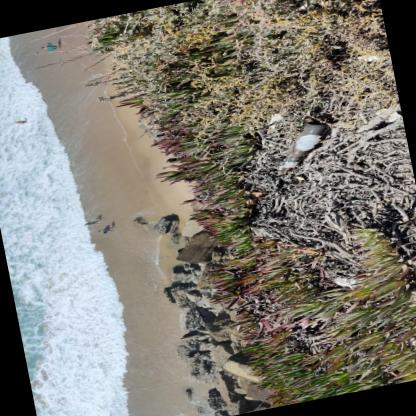Paper: (333, 276, 362, 288)
Plastic: (280, 119, 328, 170), (387, 110, 401, 121)
Waste: (358, 53, 377, 60)
